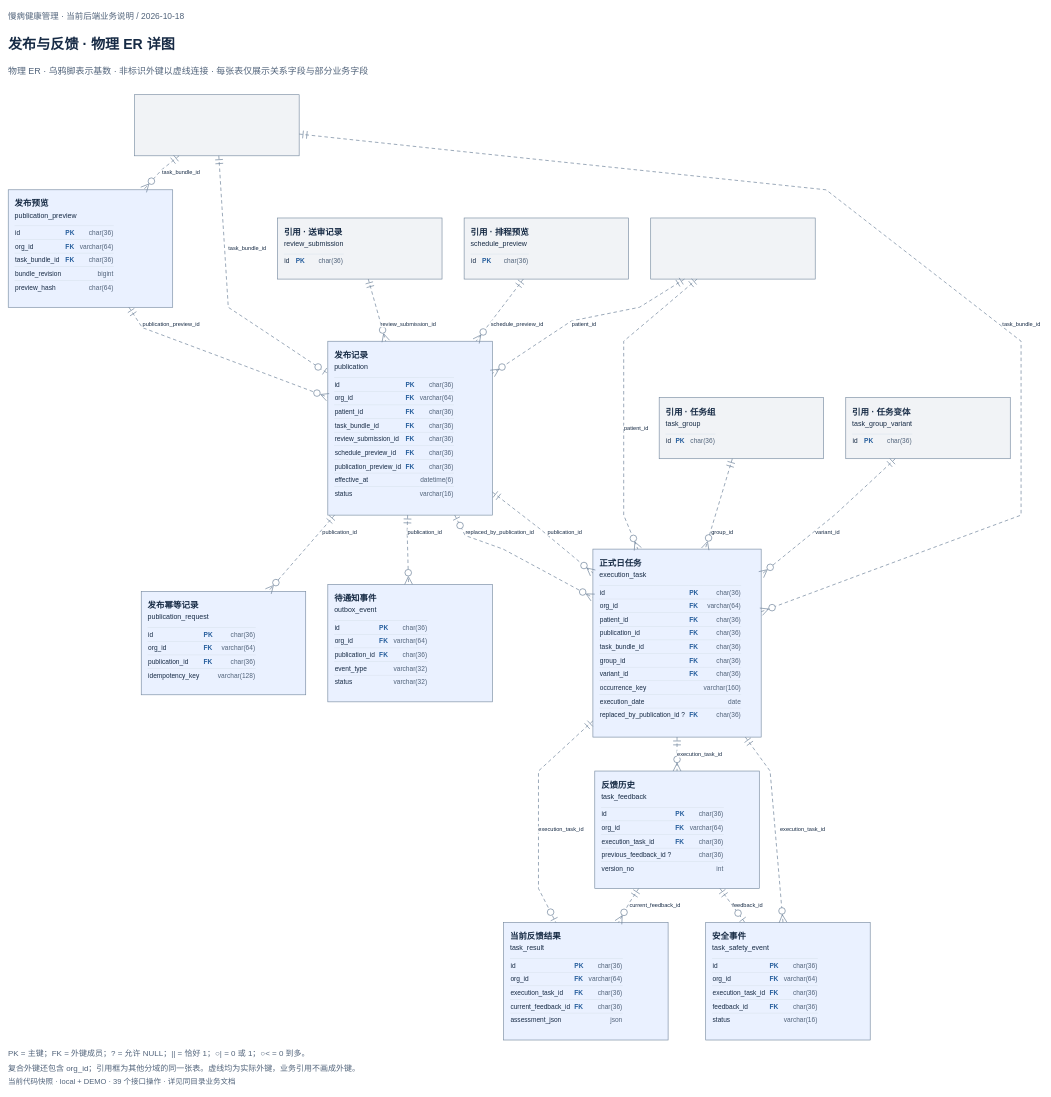
The diagram is 1051 pixels wide and 1097 high, and some of its shapes have lost their labels. Here are the shapes that lost their labels. From the top down, the centre of each, then its label:
At (x=216, y=125): "引用 · 任务包版本 task_bundle id PK char(36)".
At (x=732, y=248): "引用 · 患者 patient id PK char(36)".
